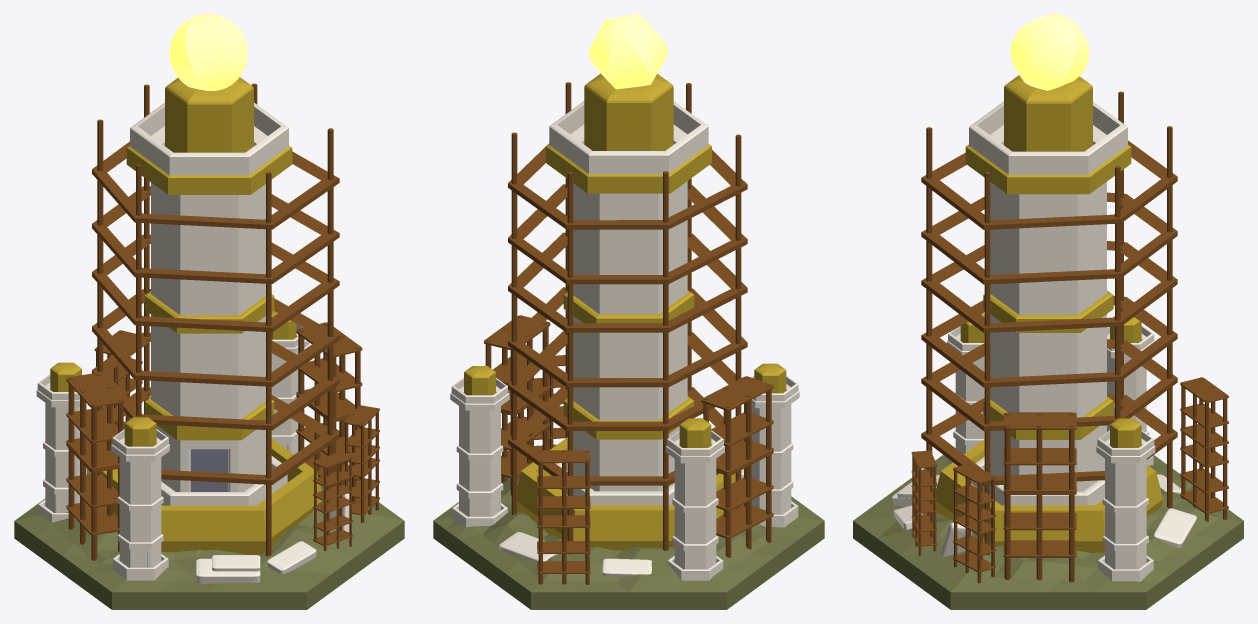
File: hyperstructure_half.glb
3 renders of one model, left to right at view 1: azimuth 30°, elevation 25°; view 2: azimuth 150°, elevation 25°; view 3: azimuth 270°, elevation 25°, orthographic.
Parts seen in each view (by area): view 1: building, big_details, land; view 2: building, big_details, land; view 3: building, big_details, land.
Part boxes in pixels (box(x1,y1,x2,y2)): building: box(36, 14, 339, 580); big_details: box(66, 322, 379, 583); land: box(14, 469, 404, 609); building: box(450, 14, 799, 580); big_details: box(484, 315, 773, 584); land: box(433, 476, 824, 609); building: box(921, 14, 1177, 581); big_details: box(892, 377, 1228, 583); land: box(853, 455, 1243, 609).
Bounding box in the file's own units: 1.73 × 2.94 × 2.
